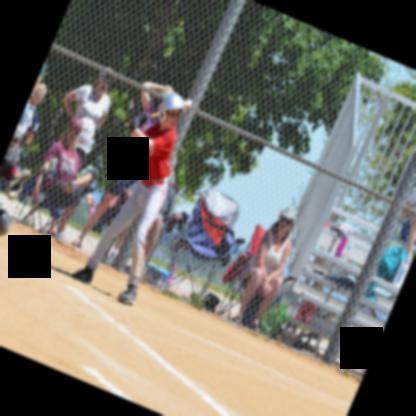backpack: (368, 246, 406, 296)
